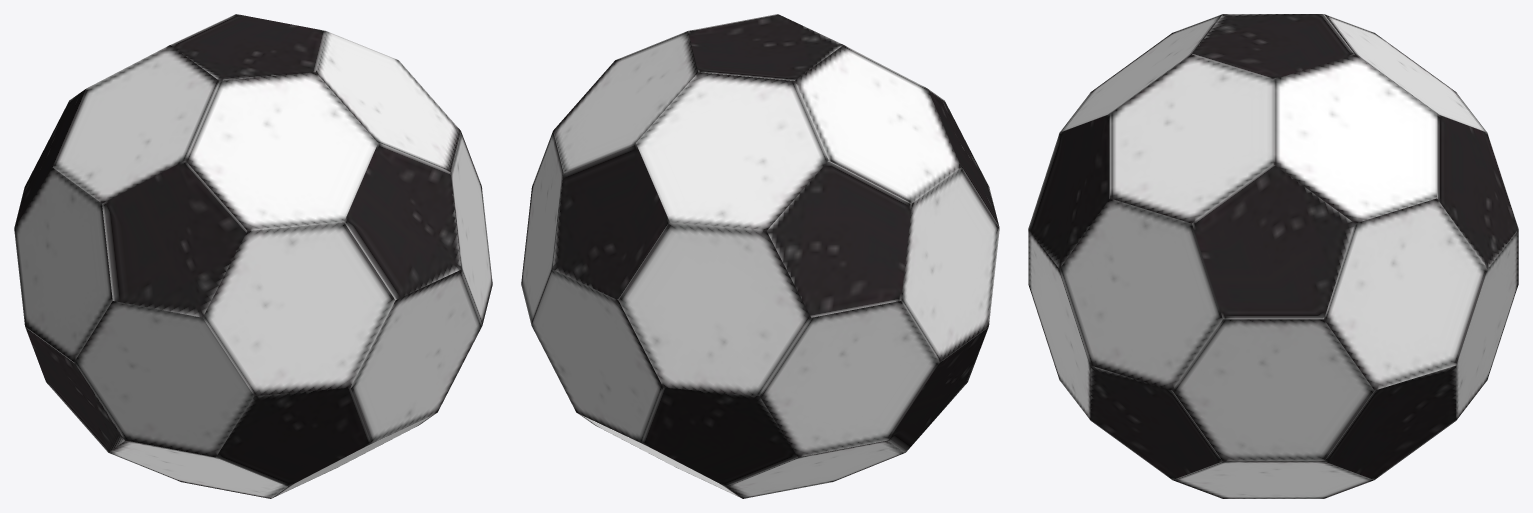
File: Football01.obj
3 views of the same model, side by side, from view 1: azimuth 30°, elevation 25°; view 2: azimuth 150°, elevation 25°; view 3: azimuth 270°, elevation 25° (orthographic). The views are drawn at different scales.
Parts seen in each view (by area): view 1: Football01; view 2: Football01; view 3: Football01.
Boxes of the visible parts, left/top/right/bottom form: Football01: left=14, top=14, right=492, bottom=498; Football01: left=521, top=14, right=999, bottom=498; Football01: left=1028, top=14, right=1518, bottom=498.
Size of the model in its own units: 0.8376 by 0.816 by 0.8506.
